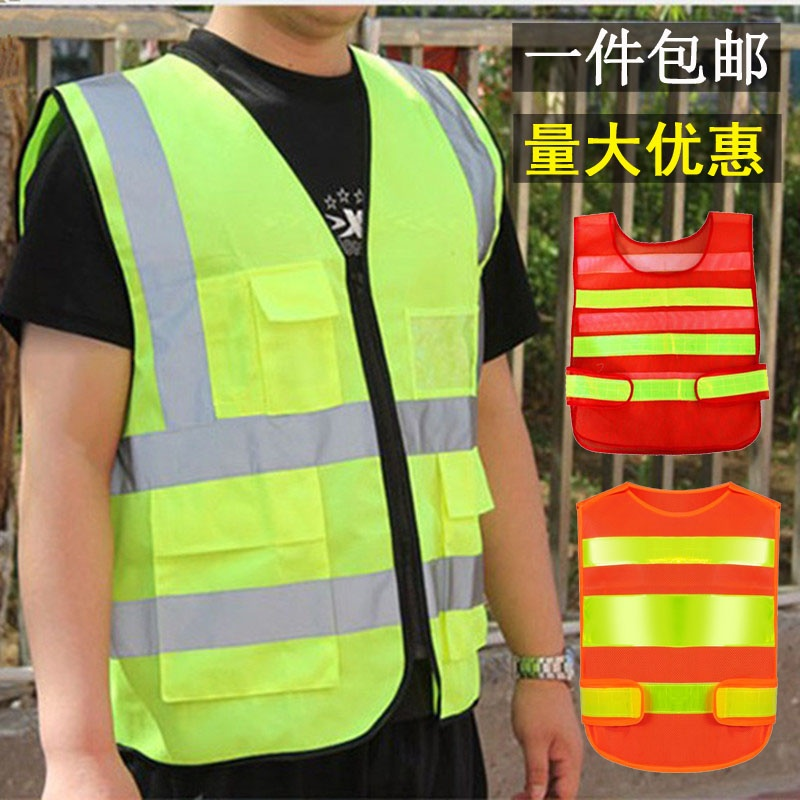person with partial safety: (10, 3, 564, 800)
safety vest: (54, 62, 484, 738), (571, 478, 781, 771), (567, 209, 767, 463)
